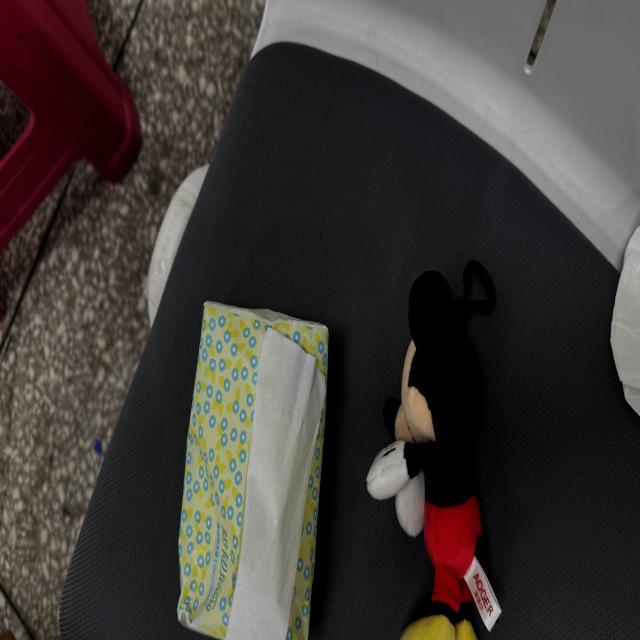mickey: (367, 262, 494, 639)
tissue: (611, 228, 639, 414)
